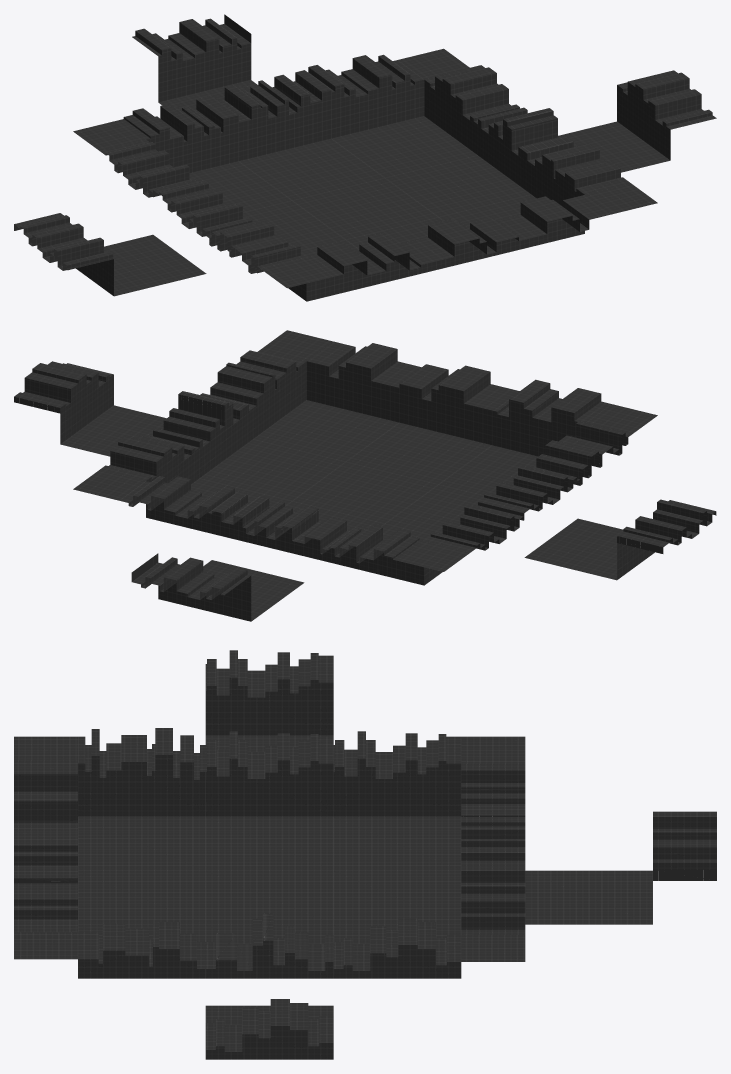
3 renders of one model, top to bottom at view 1: azimuth 30°, elevation 25°; view 2: azimuth 150°, elevation 25°; view 3: azimuth 270°, elevation 25°, orthographic. The views are drawn at different scales.
Visible parts, largest first — view 1: TerrainNE, TerrainNW, TerrainN1, TerrainSE, TerrainE0, TerrainSW, TerrainE1, TerrainW0, TerrainN0, TerrainW1, TerrainC, TerrainS; view 2: TerrainSE, TerrainSW, TerrainS, TerrainE0, TerrainNE, TerrainNW, TerrainE1, TerrainW0, TerrainN0, TerrainW1, TerrainN1, TerrainC; view 3: TerrainSW, TerrainNW, TerrainW1, TerrainNE, TerrainSE, TerrainN0, TerrainW0, TerrainS, TerrainN1, TerrainE0, TerrainE1, TerrainC.
Boxes of the visible parts, left/top/right/bottom form: TerrainNE: left=308, top=48, right=519, bottom=177; TerrainNW: left=73, top=95, right=291, bottom=212; TerrainN1: left=220, top=70, right=384, bottom=200; TerrainSE: left=439, top=143, right=657, bottom=256; TerrainE0: left=385, top=107, right=573, bottom=216; TerrainSW: left=207, top=220, right=425, bottom=301; TerrainE1: left=558, top=70, right=716, bottom=172; TerrainW0: left=14, top=213, right=206, bottom=296; TerrainN0: left=132, top=14, right=257, bottom=109; TerrainW1: left=153, top=179, right=345, bottom=250; TerrainC: left=293, top=178, right=438, bottom=239; TerrainS: left=346, top=217, right=518, bottom=278; TerrainSE: left=210, top=330, right=421, bottom=461; TerrainSW: left=439, top=379, right=657, bottom=495; TerrainS: left=346, top=364, right=518, bottom=484; TerrainE0: left=153, top=391, right=345, bottom=500; TerrainNE: left=73, top=434, right=291, bottom=540; TerrainNW: left=305, top=505, right=523, bottom=585; TerrainE1: left=14, top=361, right=166, bottom=456; TerrainW0: left=524, top=499, right=716, bottom=580; TerrainN0: left=131, top=553, right=304, bottom=621; TerrainW1: left=385, top=465, right=577, bottom=534; TerrainN1: left=212, top=491, right=384, bottom=562; TerrainC: left=292, top=462, right=438, bottom=523; TerrainSW: left=14, top=728, right=205, bottom=870; TerrainNW: left=333, top=731, right=525, bottom=870; TerrainW1: left=205, top=731, right=333, bottom=870; TerrainNE: left=333, top=865, right=525, bottom=978; TerrainSE: left=14, top=883, right=205, bottom=978; TerrainN0: left=525, top=811, right=716, bottom=924; TerrainW0: left=205, top=650, right=333, bottom=751; TerrainS: left=14, top=829, right=205, bottom=924; TerrainN1: left=333, top=815, right=525, bottom=924; TerrainE0: left=205, top=913, right=333, bottom=978; TerrainE1: left=205, top=999, right=333, bottom=1059; TerrainC: left=205, top=870, right=333, bottom=924.
Size of the model in its own units: 140 by 11.24 by 110.
1 material, 1 textured.
